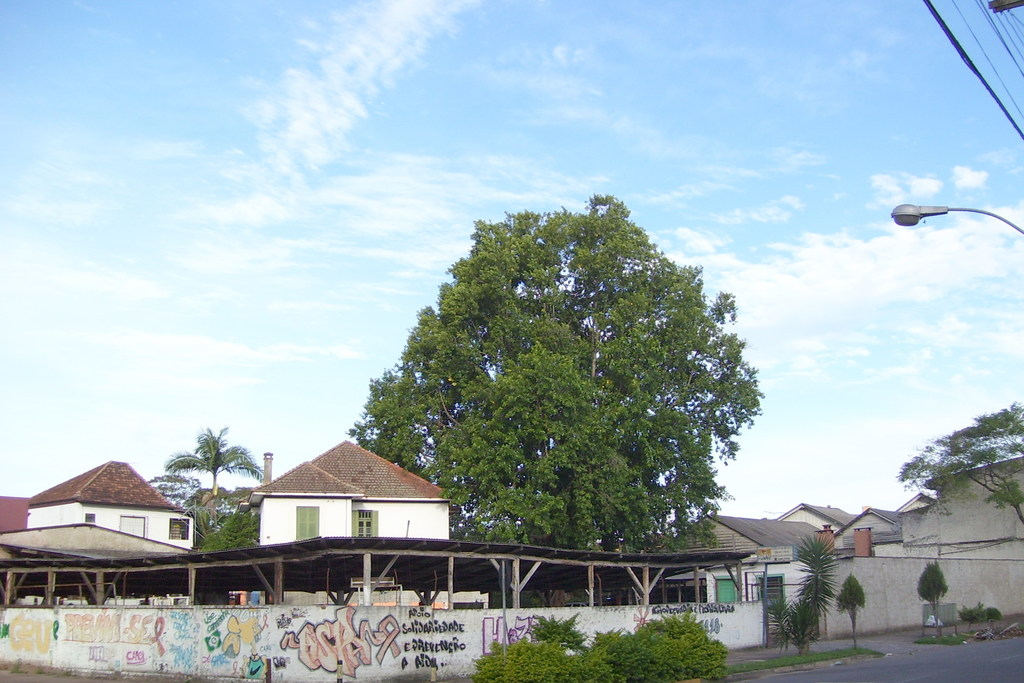tree: (344, 190, 771, 560)
